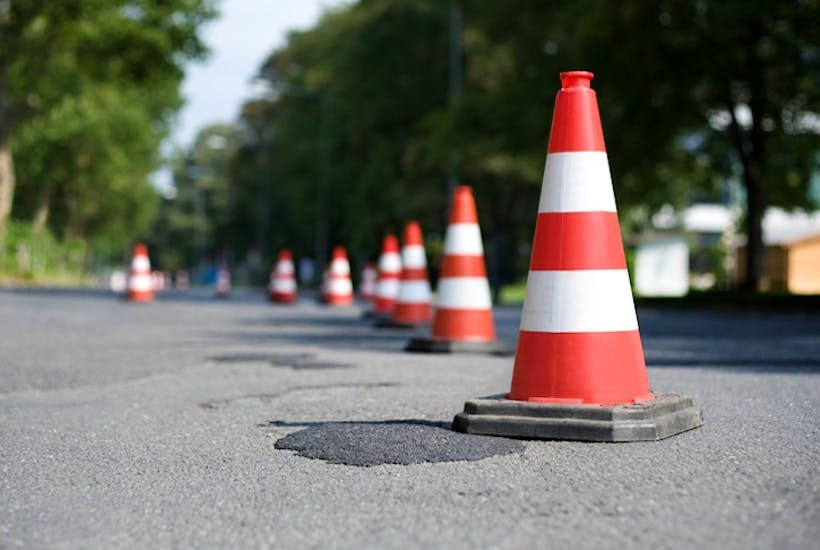cones: (461, 65, 708, 441)
